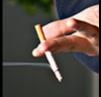Cigarette: (34, 24, 63, 80)
